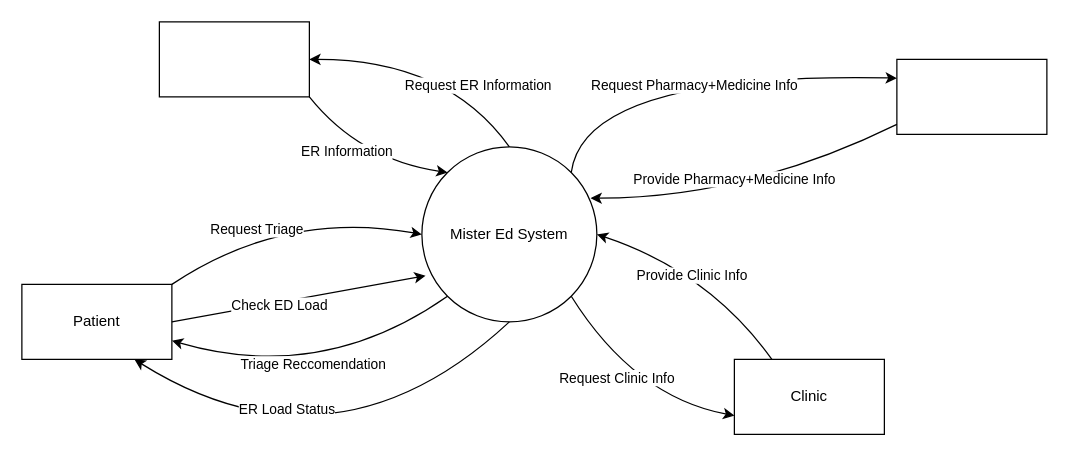
Image size: 1069x456. Some labels were removed from this diagram. Here are the shapes that lost their labels. From the top down, the centre of each, then its label:
At [233,59]: "Hospital ER".
At [971,96]: "Pharmacy".
